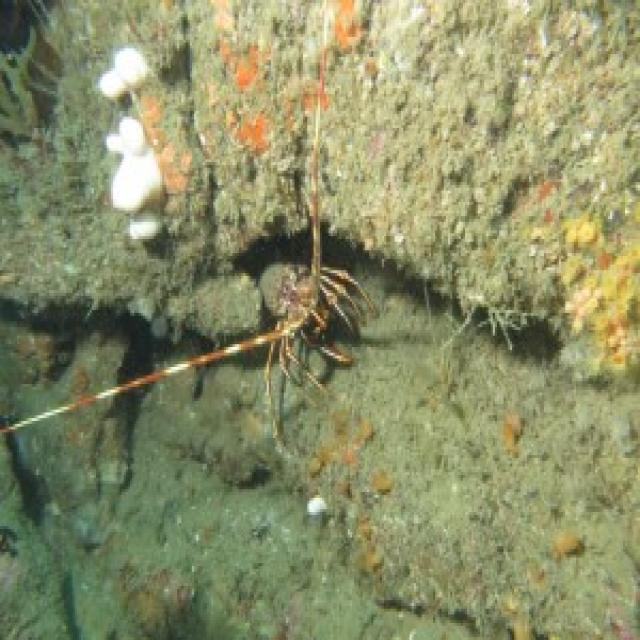lobsters: (31, 138, 428, 533)
